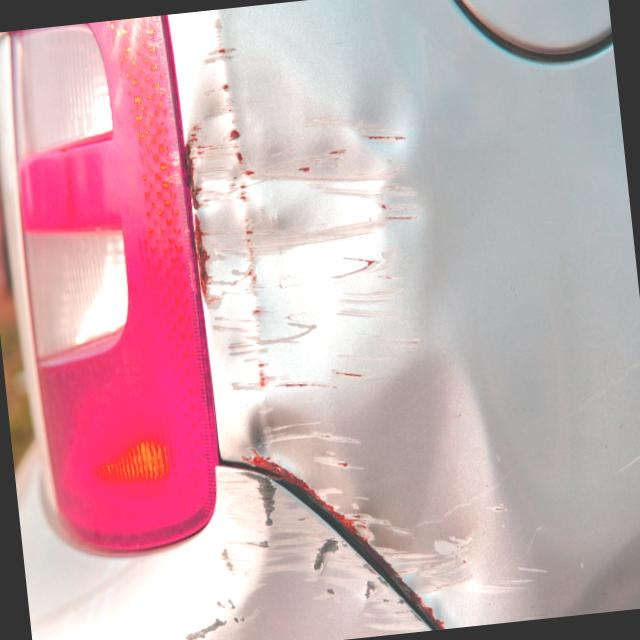Cabossage: (328, 341, 502, 588), (178, 92, 272, 450), (199, 137, 397, 262), (345, 67, 448, 265)
Rayure: (181, 15, 548, 640), (170, 462, 390, 640), (354, 466, 550, 637)
